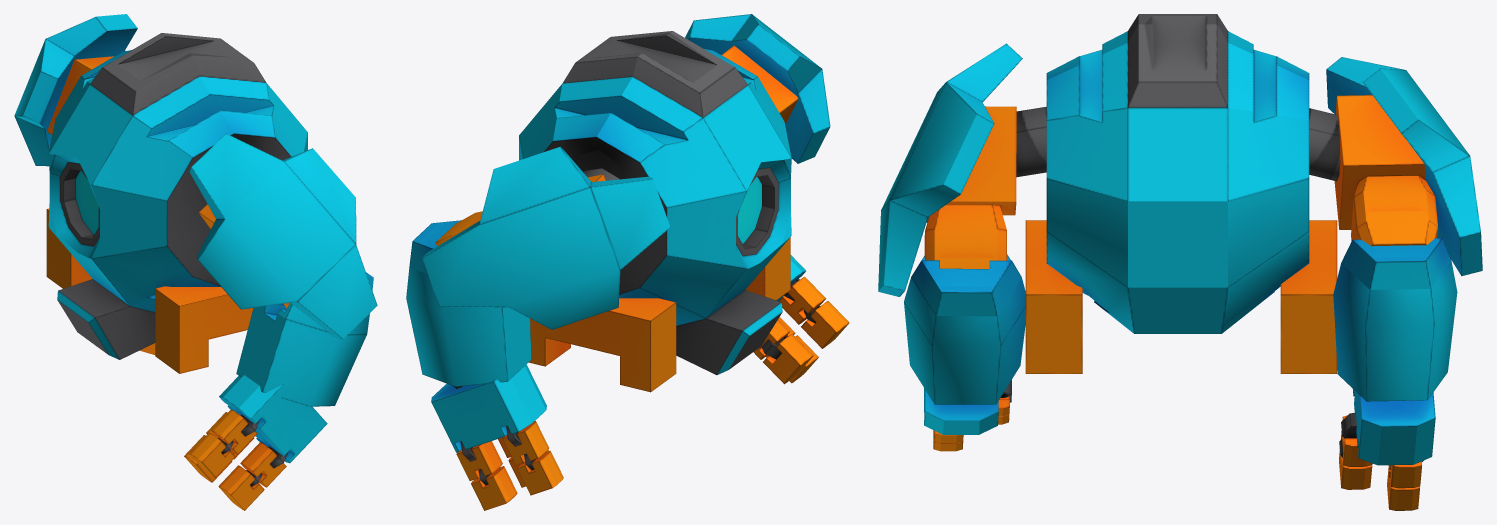
The model's file is Body_Idle15.obj.
The picture shows the model from 3 angles, left to right: view 1: azimuth 30°, elevation 25°; view 2: azimuth 150°, elevation 25°; view 3: azimuth 270°, elevation 25°; orthographic projection. The views are drawn at different scales.
Visible parts, largest first — view 1: Plane001, Object006, Object008, Object007, Object002; view 2: Plane001, Object002, Object004, Object003, Object006, Object008; view 3: Plane001, Object002, Object006, Object003, Object007, Object004, Object008, Object001, Object005.
Part boxes in pixels (x1,y1,x2,y2): Plane001: [46, 33, 307, 373]; Object006: [189, 133, 377, 339]; Object008: [184, 375, 327, 510]; Object007: [236, 272, 373, 406]; Object002: [14, 14, 137, 166]; Plane001: [519, 31, 791, 392]; Object002: [422, 146, 670, 329]; Object004: [431, 364, 563, 510]; Object003: [406, 220, 531, 386]; Object006: [685, 14, 830, 163]; Object008: [753, 255, 849, 384]; Plane001: [1025, 14, 1337, 373]; Object002: [1326, 57, 1482, 276]; Object006: [878, 43, 1022, 296]; Object003: [1333, 238, 1457, 401]; Object007: [904, 254, 1025, 404]; Object004: [1339, 389, 1435, 510]; Object008: [924, 380, 1011, 451]; Object001: [1309, 108, 1340, 181]; Object005: [1016, 106, 1046, 177].
Bounding box in the file's own units: 98.2 × 150 × 183.
